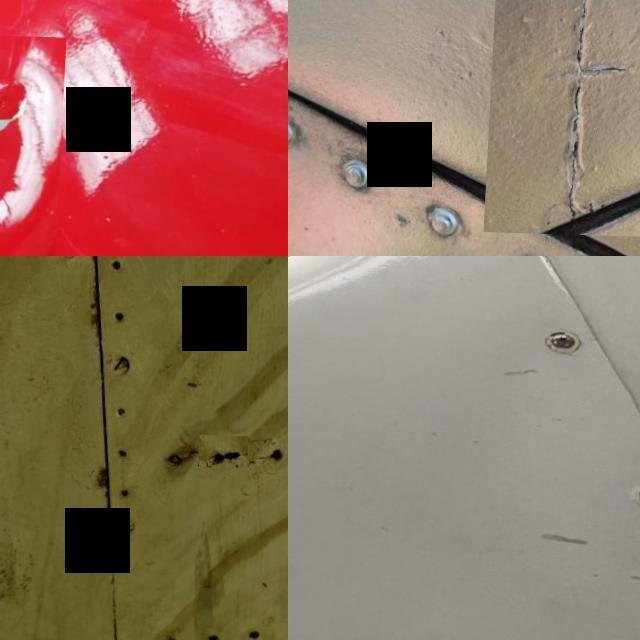Crack: (489, 0, 640, 233), (0, 31, 68, 256), (200, 434, 252, 478)
Missing_Fastener: (628, 477, 640, 510)
